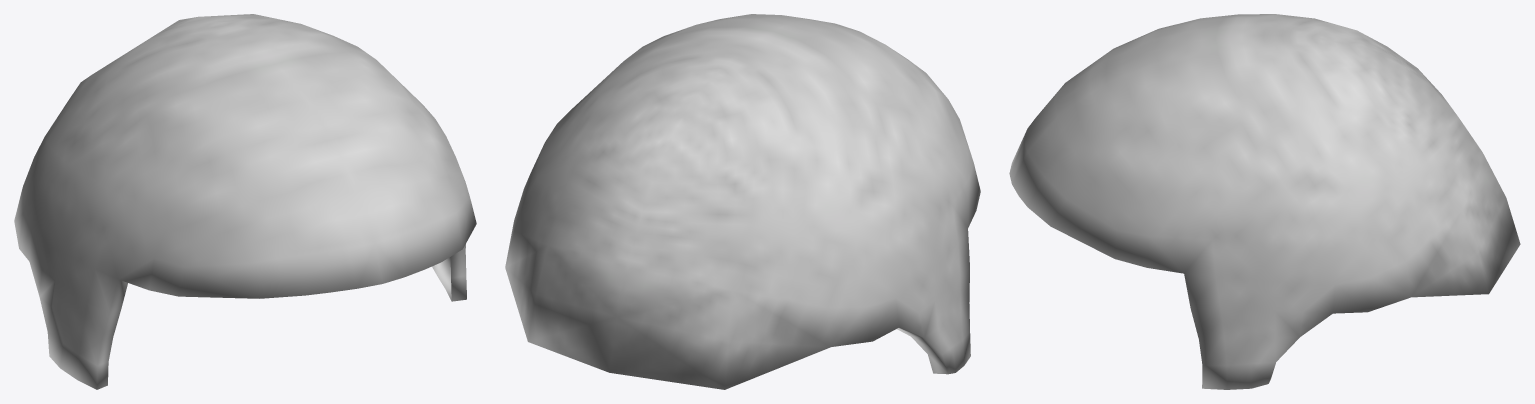
Rendered from Hair.fbx.
3 views of the same model, side by side, from view 1: azimuth 30°, elevation 25°; view 2: azimuth 150°, elevation 25°; view 3: azimuth 270°, elevation 25° (orthographic). The views are drawn at different scales.
Visible parts, largest first — view 1: Silly_Titan.001; view 2: Silly_Titan.001; view 3: Silly_Titan.001.
Part boxes in pixels (<box>): Silly_Titan.001: <box>14,14,476,389</box>; Silly_Titan.001: <box>505,14,980,389</box>; Silly_Titan.001: <box>1009,14,1520,389</box>.
Bounding box in the file's own units: 28.77 × 19.45 × 33.65.
